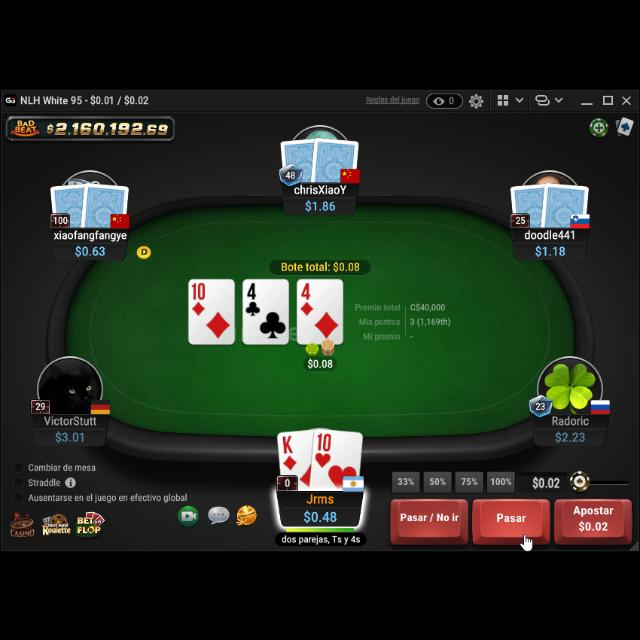4c: (244, 280, 262, 318)
4d: (299, 280, 315, 318)
Kd: (281, 431, 301, 471)
Td: (190, 280, 210, 318)
Th: (313, 430, 333, 468)
bet_text: (307, 356, 335, 370)
card_back: (539, 180, 593, 230), (80, 178, 130, 230), (312, 134, 361, 186), (48, 179, 92, 231), (278, 136, 322, 184), (506, 182, 550, 228)
dealer: (136, 243, 154, 261)
hero_active: (387, 496, 639, 550)
pot_text: (280, 258, 362, 274)
stack_text: (302, 506, 340, 524), (554, 427, 586, 445), (53, 428, 87, 444), (304, 197, 338, 213), (74, 243, 106, 257), (534, 244, 566, 258)
